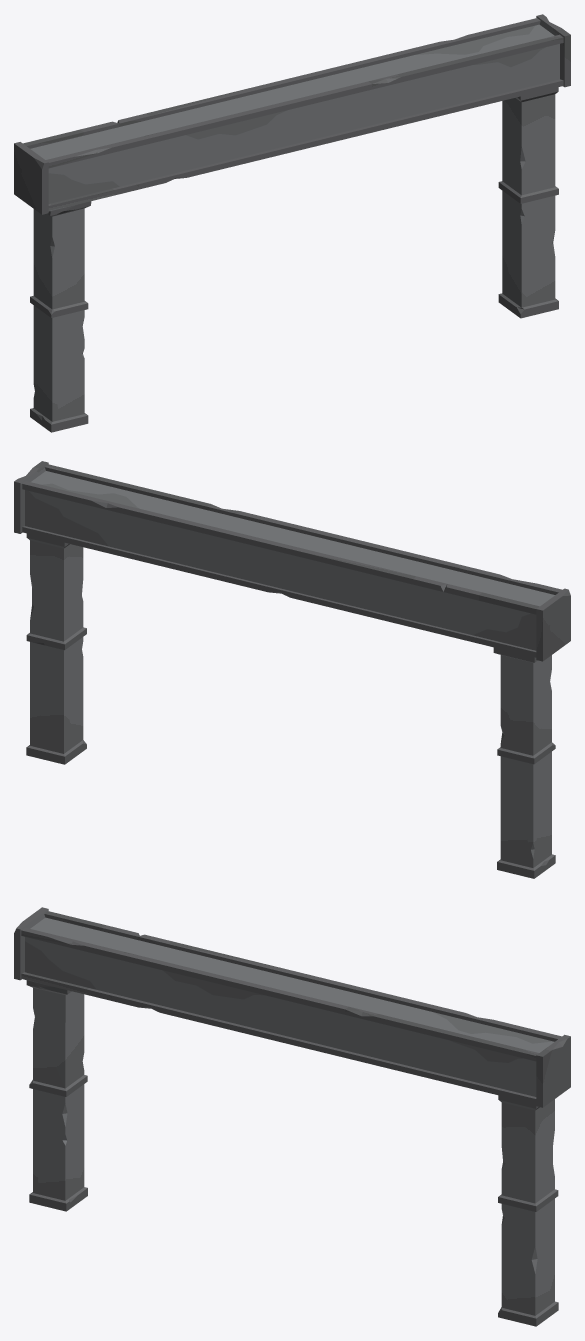
File: ts-gantry.glb
3 renders of one model, top to bottom at view 1: azimuth 30°, elevation 25°; view 2: azimuth 150°, elevation 25°; view 3: azimuth 330°, elevation 25°, orthographic.
Visible parts, largest first — view 1: SM_Prop_Gantry_01; view 2: SM_Prop_Gantry_01; view 3: SM_Prop_Gantry_01.
Part boxes in pixels (<box>): SM_Prop_Gantry_01: <box>14,14,570,432</box>; SM_Prop_Gantry_01: <box>14,461,570,878</box>; SM_Prop_Gantry_01: <box>14,907,570,1326</box>.
Bounding box in the file's own units: 17.5 × 8.66 × 1.61.
1 material, 1 textured.
